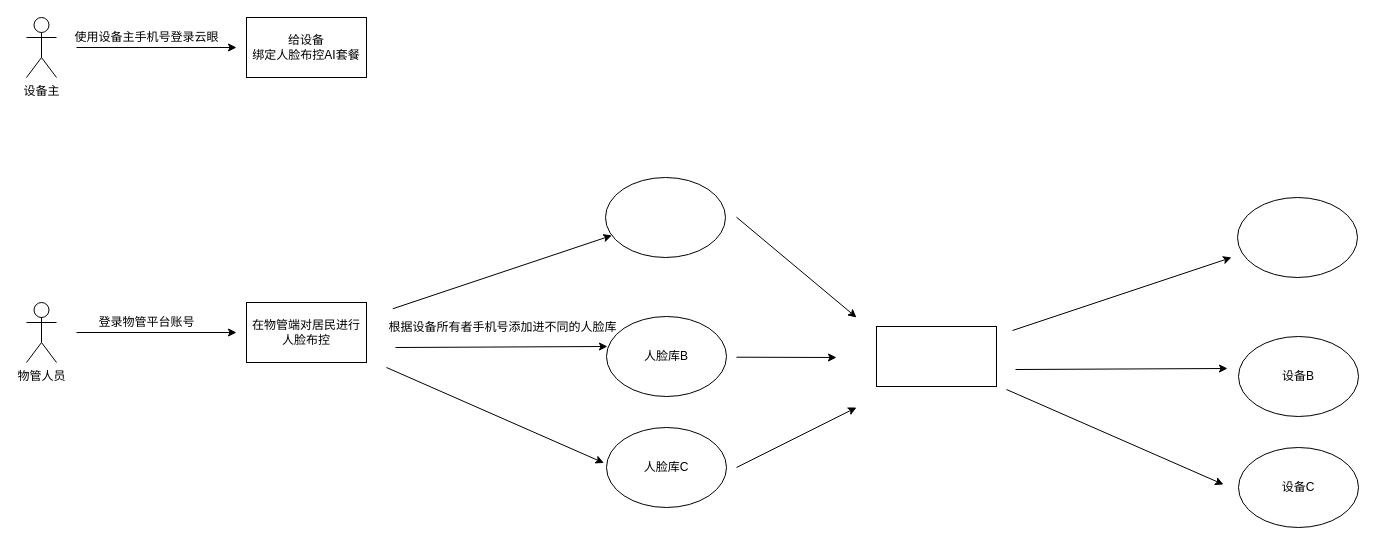
This 1376x545 diagram has some shape labels left out. Here are the shapes that lost their labels. From the top down, the centre of each, then its label:
the point at 665,217: 人脸库A
the point at 1297,237: 设备A
the point at 936,356: 下发人脸时社区根据设备所有者手机号所用的人脸库进行下发
